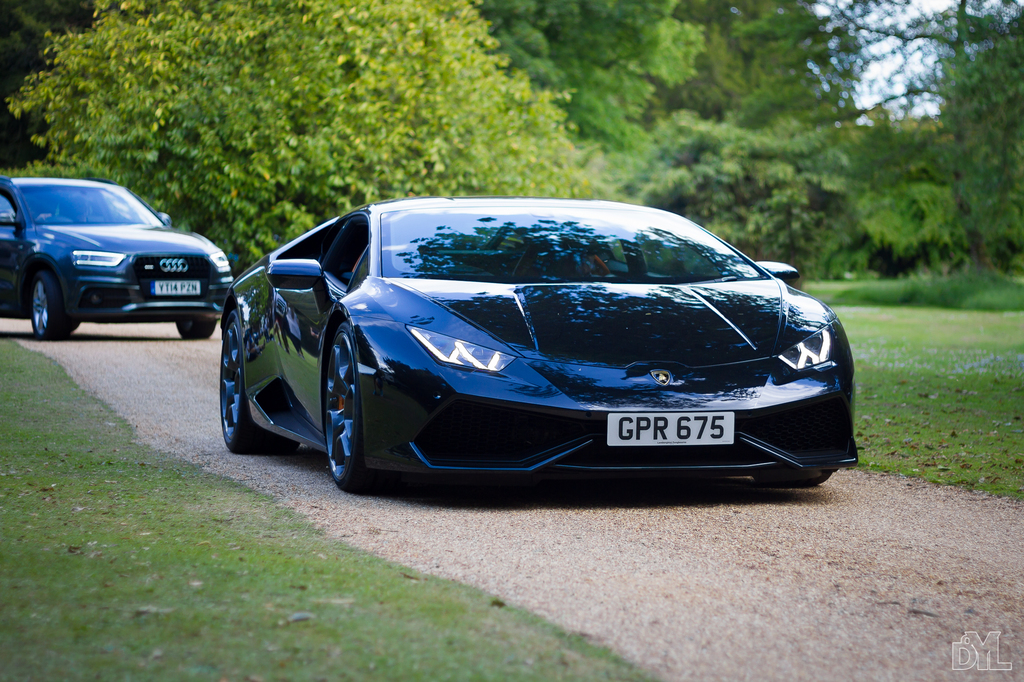mobil: (206, 199, 863, 509), (1, 181, 228, 338)
